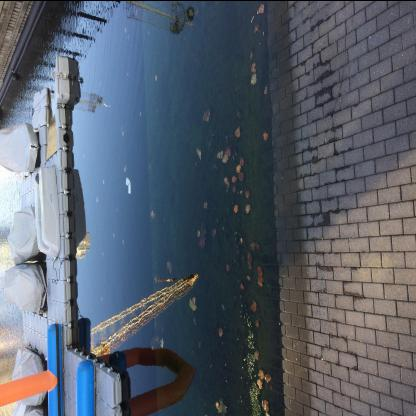kagit: (126, 176, 132, 193)
